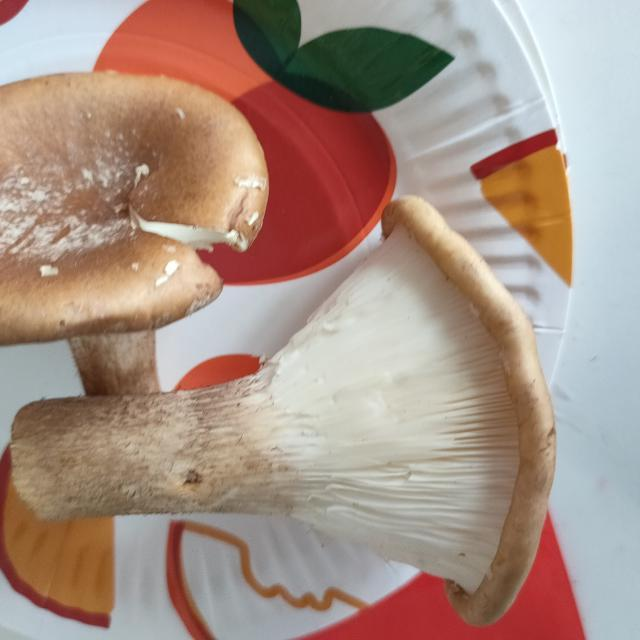Clitocybe maxima: (9, 196, 557, 624), (0, 72, 271, 392)
